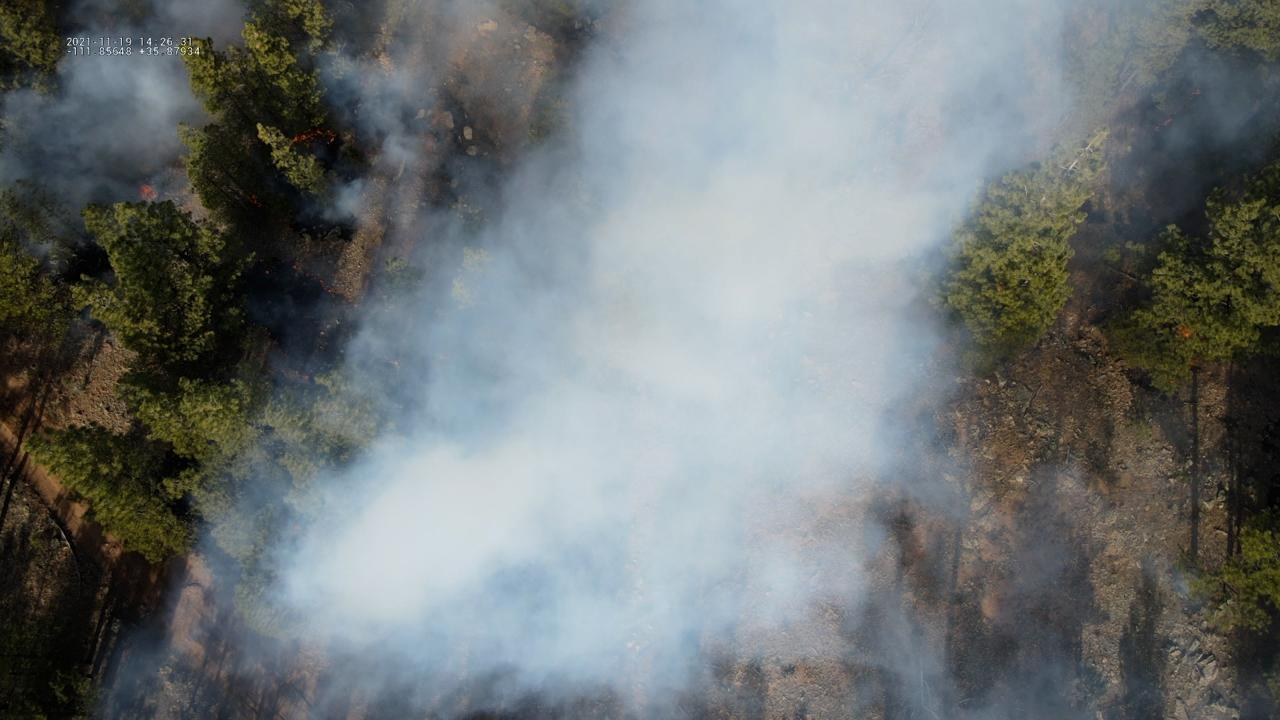fire: (290, 259, 337, 299), (291, 126, 337, 147), (137, 181, 159, 204), (1155, 112, 1176, 134), (1172, 319, 1192, 341), (247, 195, 263, 208), (1191, 85, 1203, 98)
smoke: (101, 0, 1280, 720), (0, 0, 255, 276)
